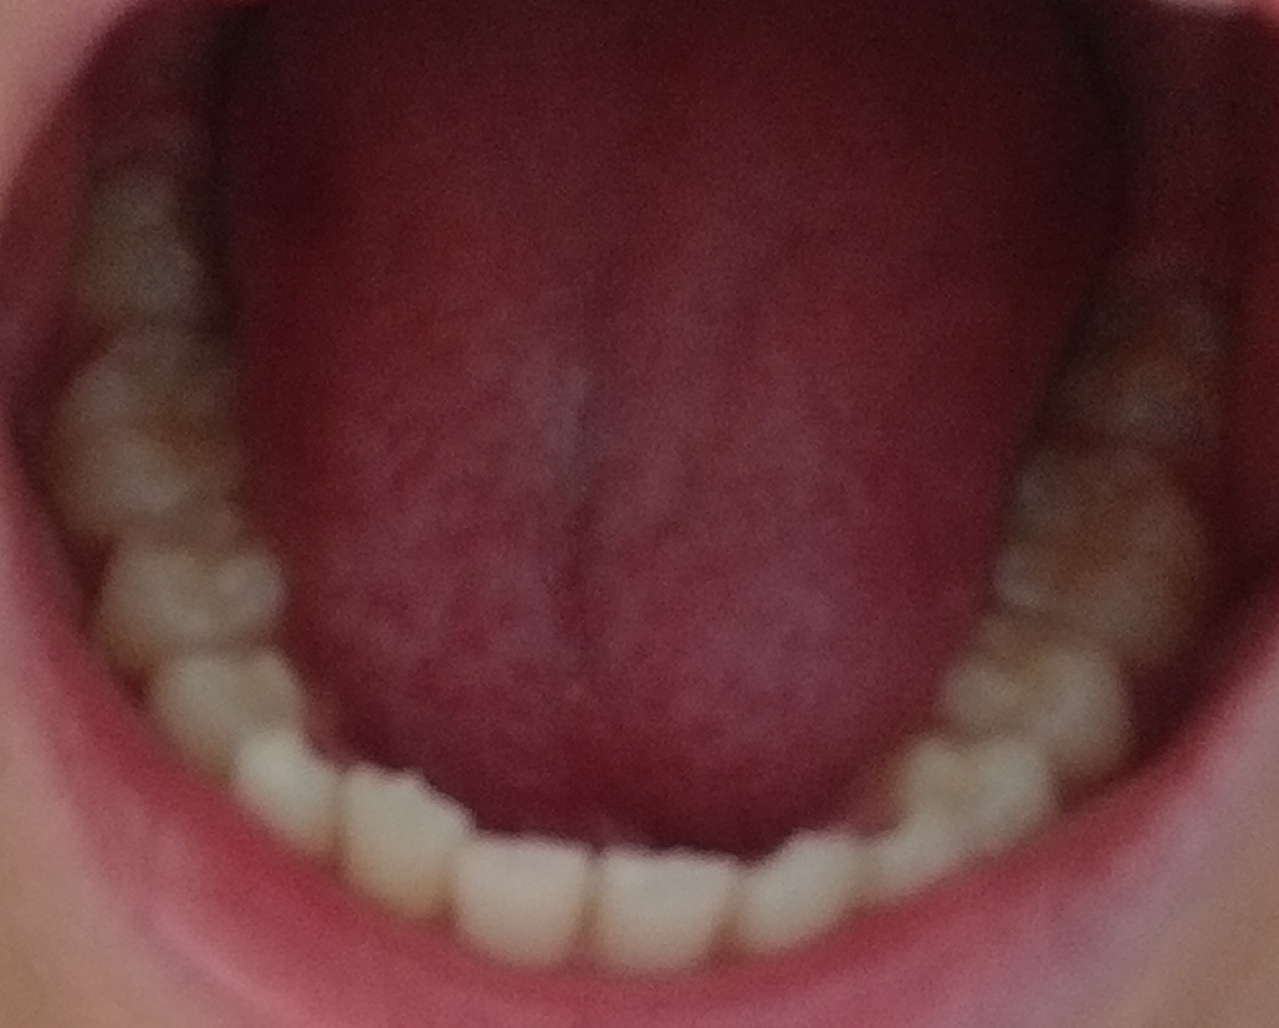teeth: (1001, 440, 1237, 678), (27, 325, 246, 536), (94, 492, 298, 679), (942, 613, 1138, 776), (74, 166, 229, 323), (146, 641, 303, 772), (342, 769, 466, 914), (592, 857, 734, 977), (734, 830, 865, 957), (229, 719, 349, 853), (459, 847, 590, 961), (912, 734, 1049, 840), (871, 814, 961, 895)
